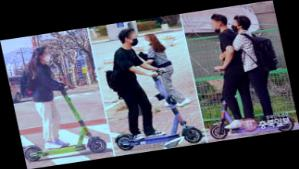multiple: (186, 4, 297, 142)
nonhelmet: (93, 21, 205, 154), (4, 39, 109, 162)
